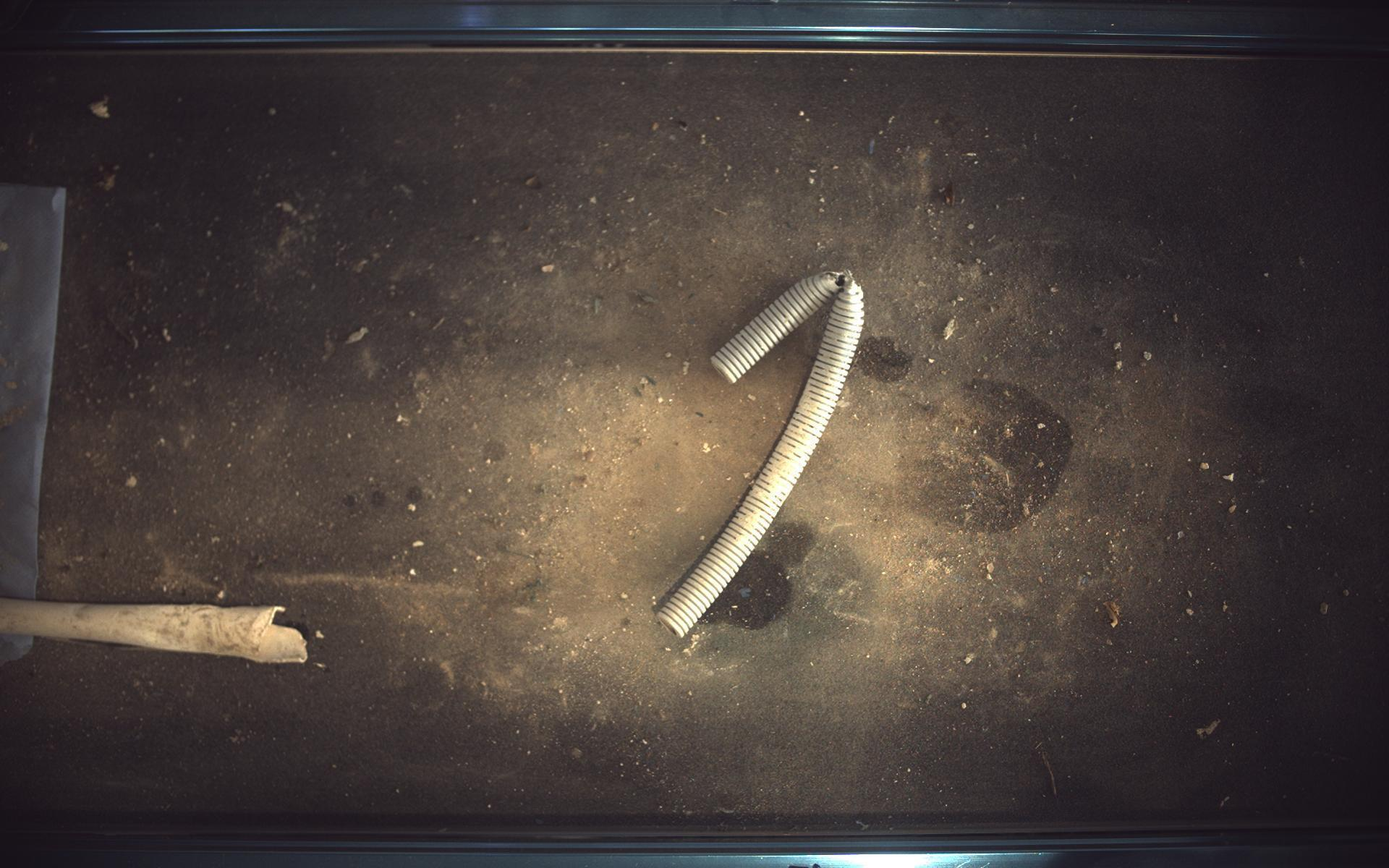pipes: (658, 271, 865, 638)
